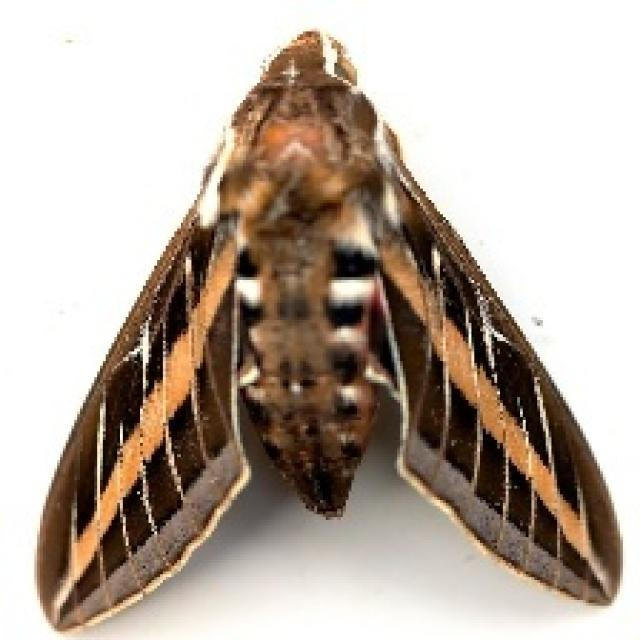butterfly: (31, 26, 623, 631)
